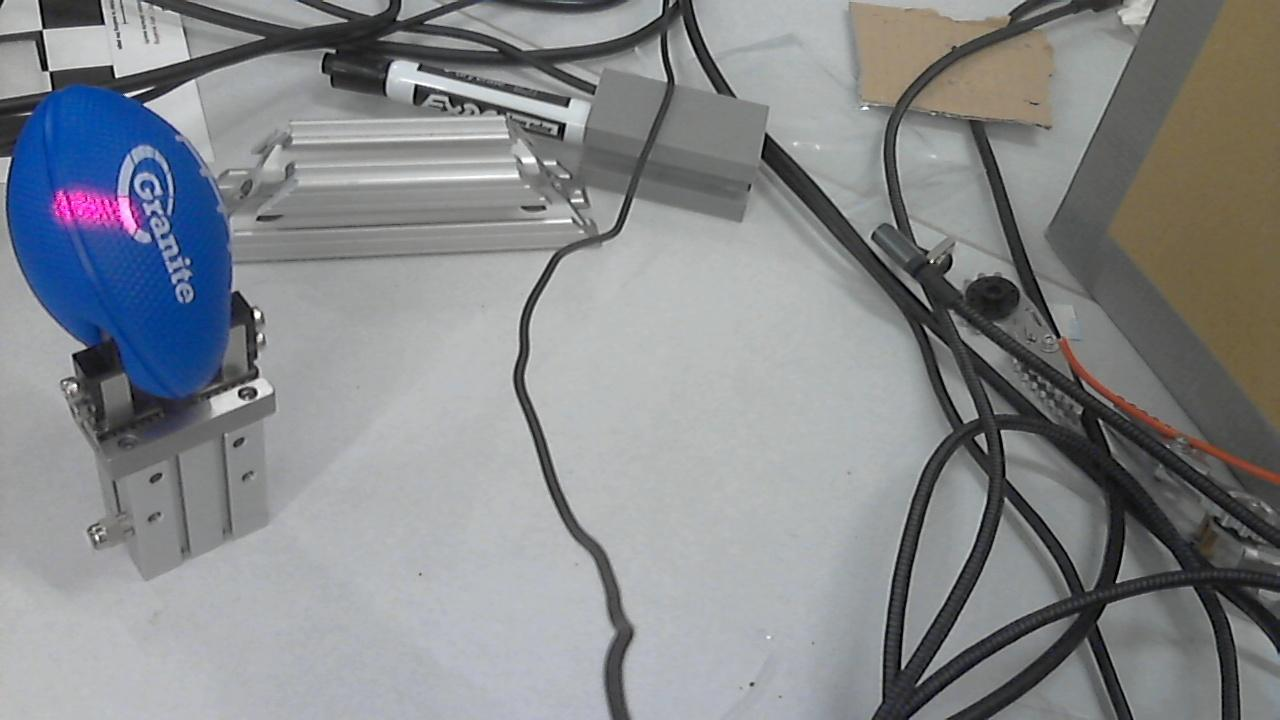Object toy football - Material foam - Color blue - Pdfname VT1ffZoLOnKv: (40, 180, 162, 238)
